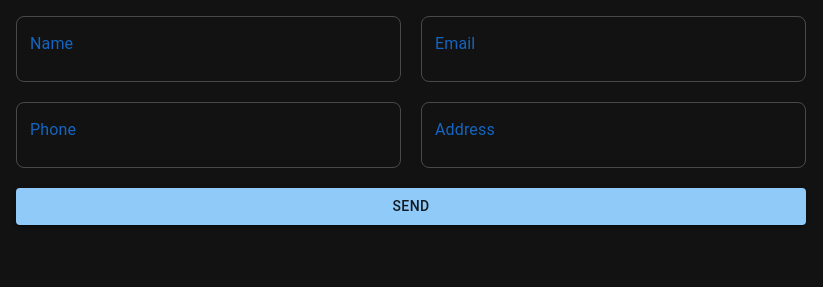
Test: test › должен отображать ошибки при пустых полях и отправке формы
Click the submit button at (411, 207), box [16,188,806,225]
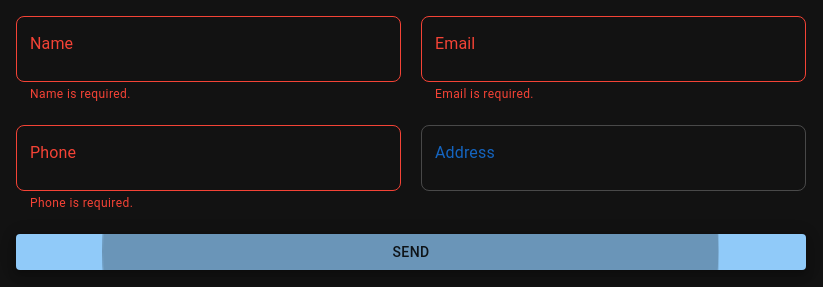
Check: the text "Name is required." is shown, box [30,87,131,101]
Check: the text "Email is required." is shown, box [435,87,534,101]
Check: the text "Phone is required." is shown, box [30,196,133,210]
